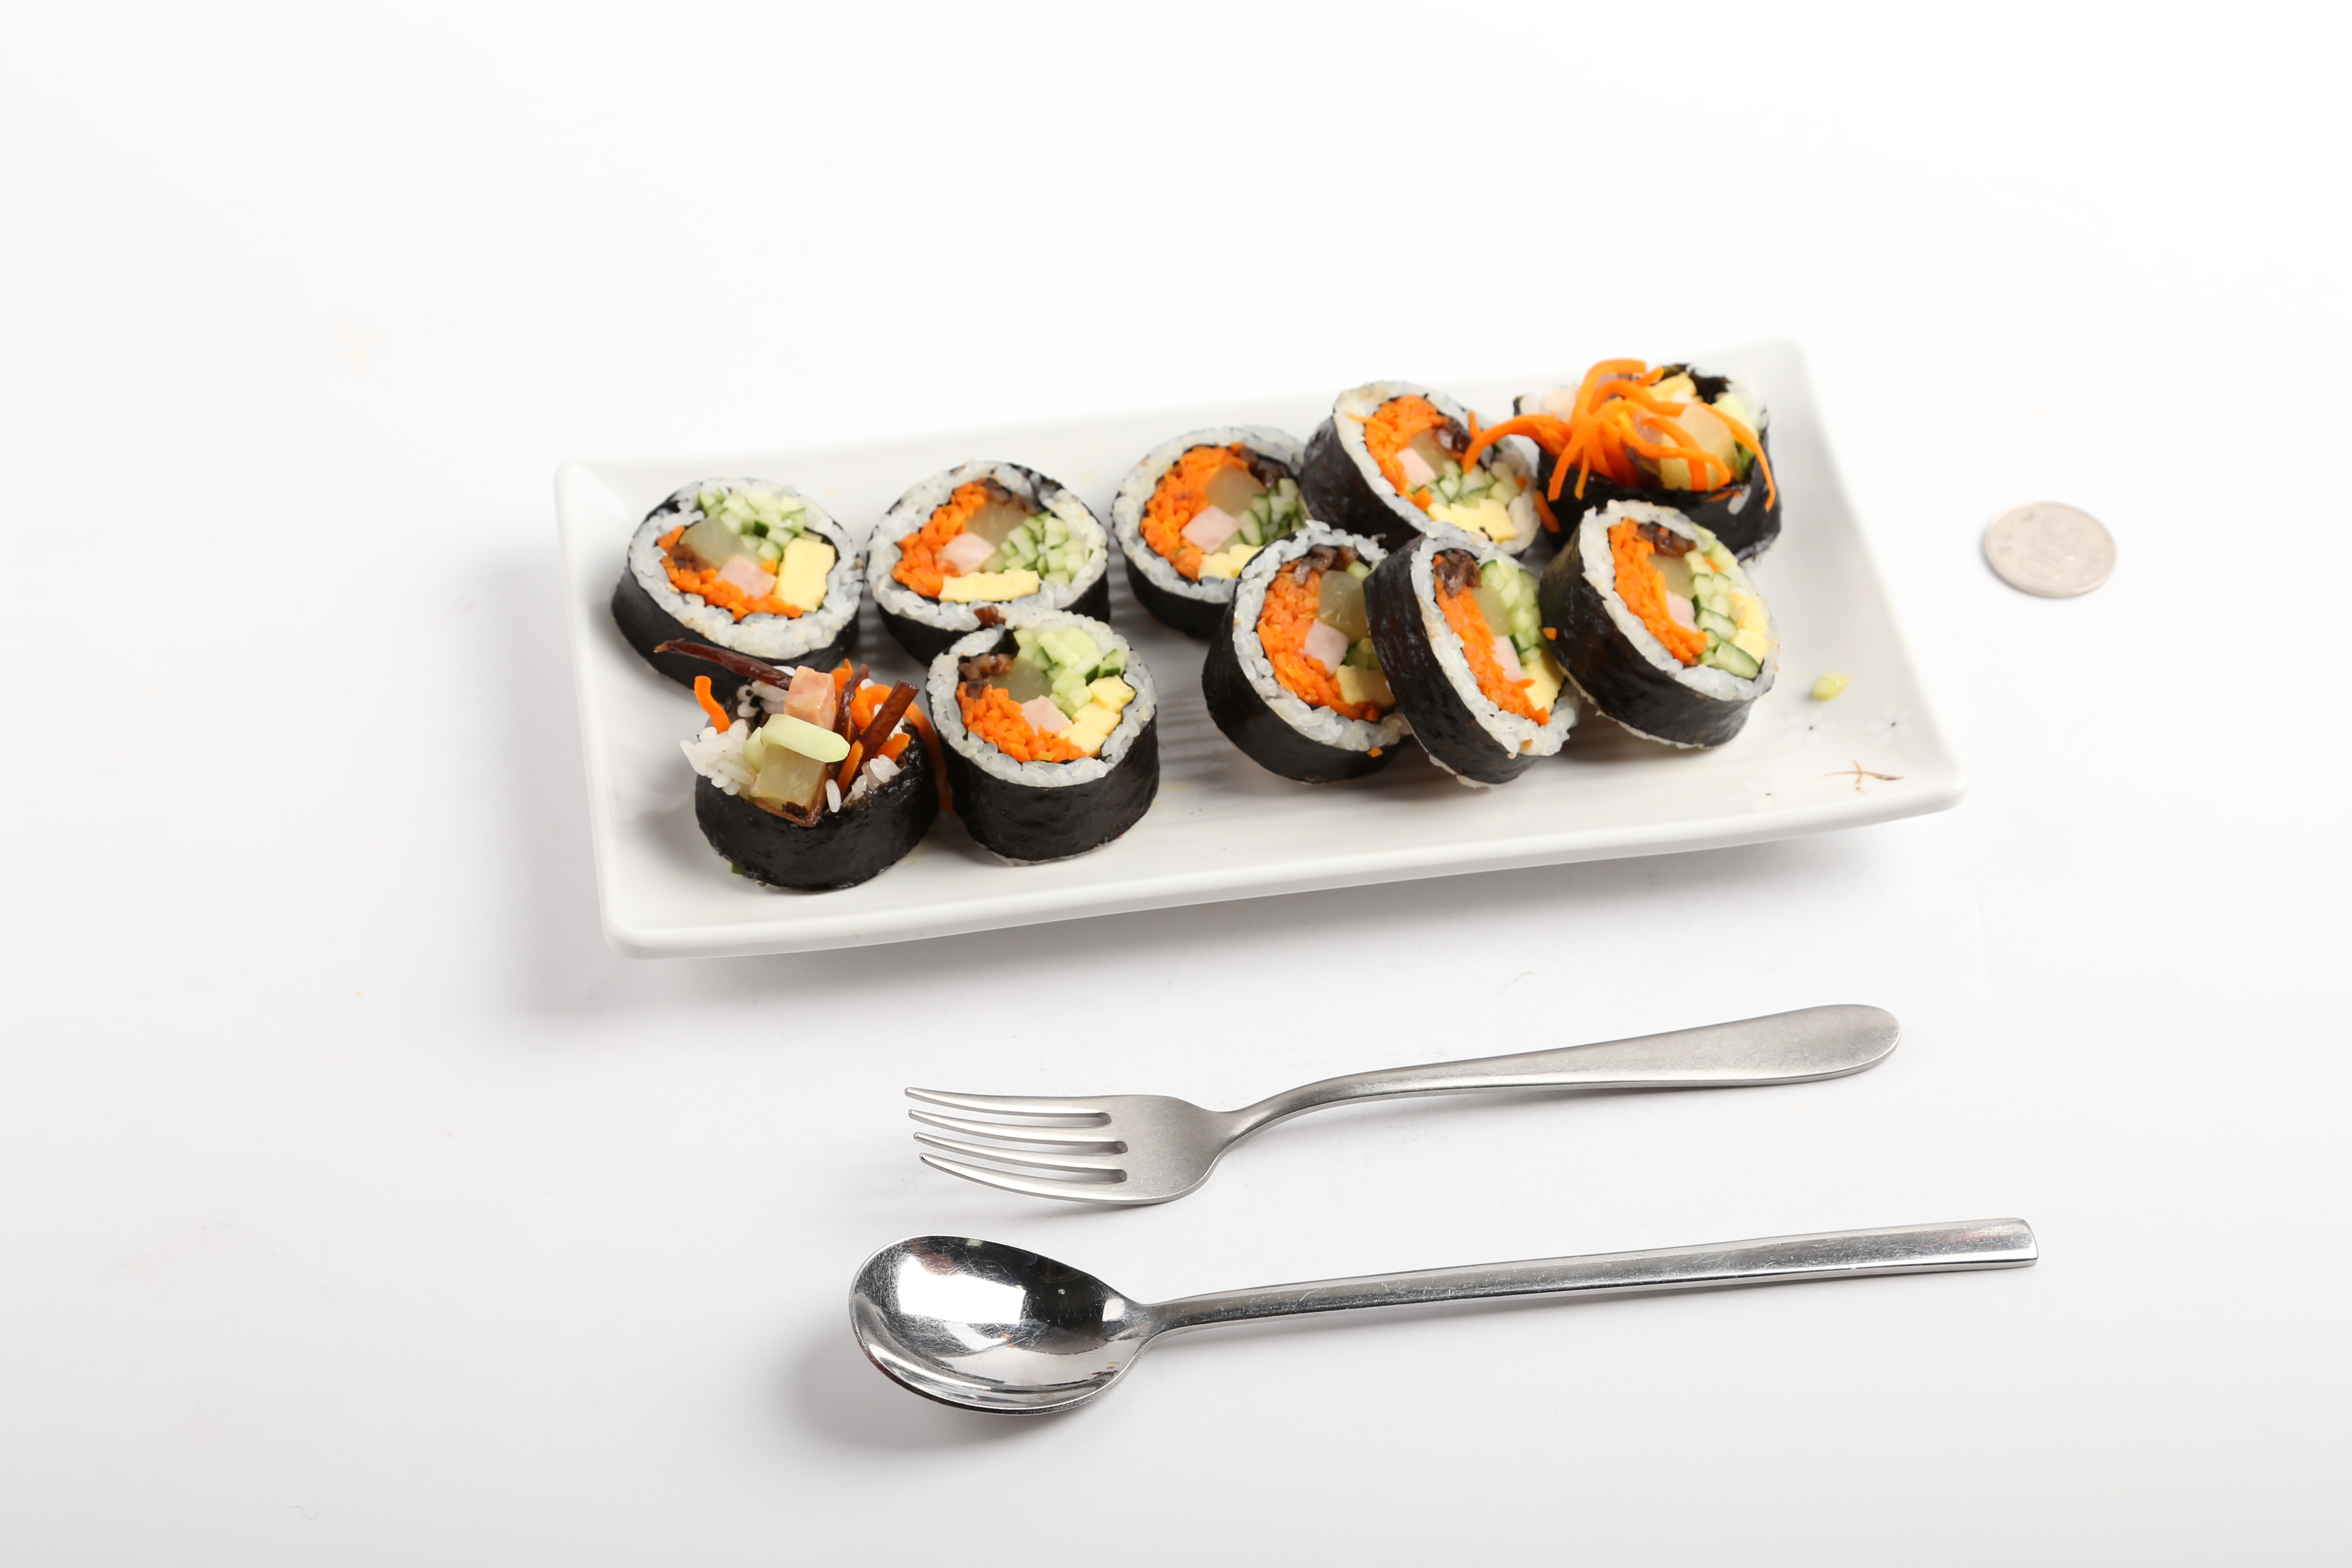dish: (555, 331, 1969, 968)
ref_coin: (1977, 499, 2119, 605)
ref_fork: (899, 1069, 1332, 1209)
ref_spoon: (842, 1228, 1244, 1419)
김밥: (602, 374, 1781, 901)
